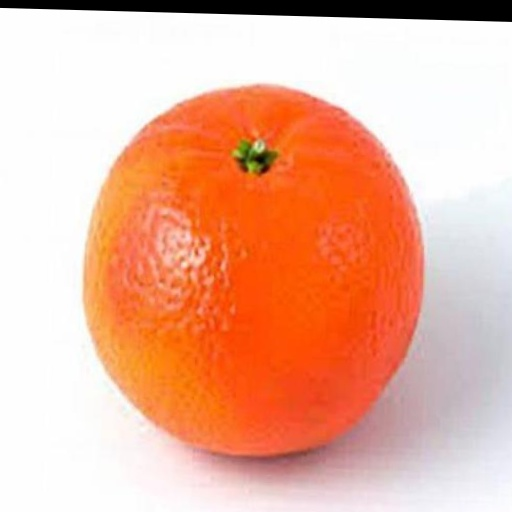fruit: (84, 87, 423, 455)
